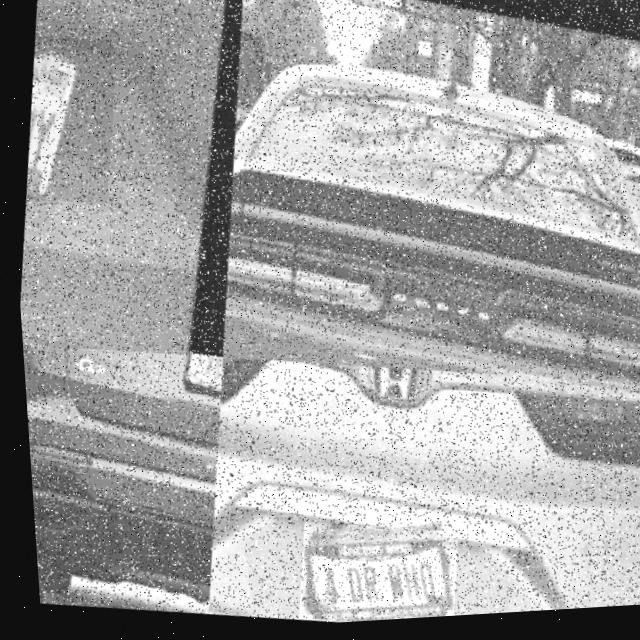LicensePlate: (14, 31, 124, 209), (296, 536, 445, 624), (177, 354, 216, 392)
